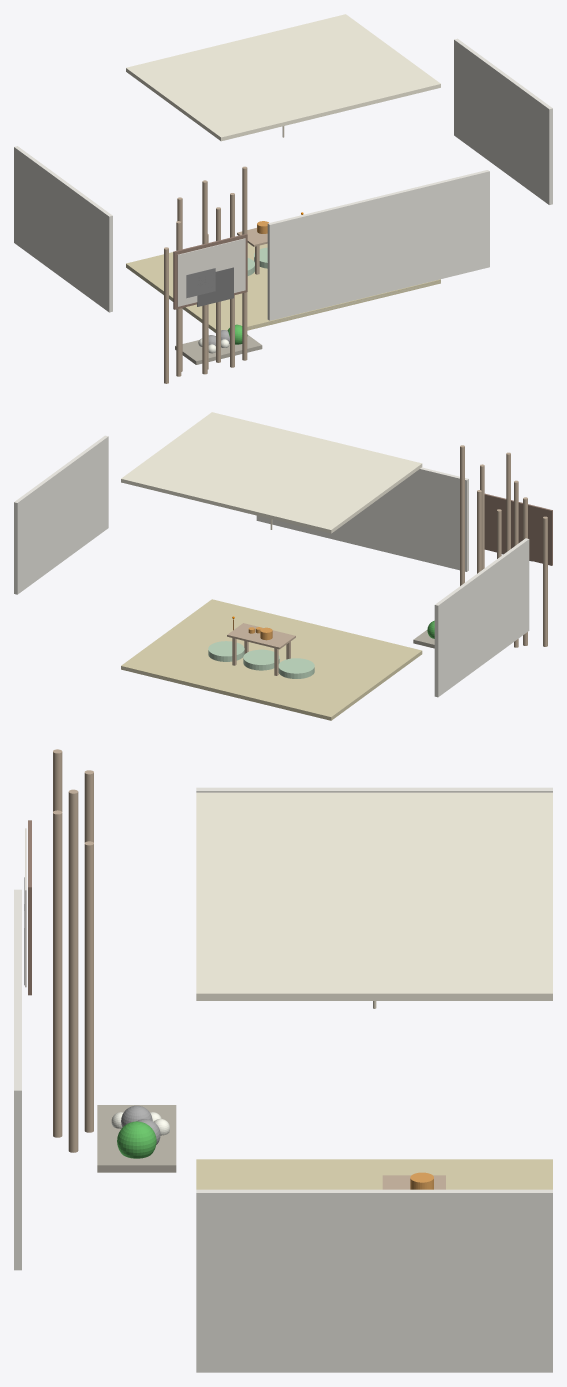
The model's file is baked_milo_room.glb.
3 renders of one model, top to bottom at view 1: azimuth 30°, elevation 25°; view 2: azimuth 150°, elevation 25°; view 3: azimuth 270°, elevation 25°, orthographic. The views are drawn at different scales.
Parts seen in each view (by area): view 1: BackWall, Ceiling, LeftWall, RightWall, Floor, PaintingCanvas, PaintingFrame, ZenBase, Mountain2, Bamboo_7, Bamboo_3, Tatami (+5 smaller); view 2: Ceiling, Floor, LeftWall, RightWall, BackWall, PaintingFrame, TeaTable, Bamboo_7, Cushion_-100, Bamboo_0, Cushion_0, Cushion_100 (+2 smaller); view 3: Ceiling, RightWall, Floor, Bamboo_7, ZenBase, Bamboo_6, BackWall, Bamboo_5, LeftWall, Bonsai.
Boxes of the visible parts, x1,y1,x2,y2 form: BackWall: (267, 170, 489, 320); Ceiling: (126, 14, 440, 141); LeftWall: (14, 146, 112, 312); RightWall: (454, 38, 552, 204); Floor: (126, 243, 440, 332); PaintingCanvas: (177, 238, 245, 306); PaintingFrame: (173, 233, 247, 309); ZenBase: (175, 334, 262, 364); Mountain2: (197, 267, 233, 306); Bamboo_7: (242, 166, 247, 360); Bamboo_3: (202, 180, 207, 374); Tatami: (126, 264, 440, 331); Ceiling: (121, 412, 422, 533); Floor: (121, 599, 422, 720); LeftWall: (434, 538, 529, 697); RightWall: (14, 435, 108, 594); BackWall: (256, 467, 468, 571); PaintingFrame: (484, 493, 552, 565); TeaTable: (227, 623, 295, 649); Bamboo_7: (460, 445, 464, 585); Cushion_-100: (278, 658, 314, 678); Bamboo_0: (543, 516, 547, 646); Cushion_0: (243, 649, 279, 670); Cushion_100: (208, 641, 244, 661); Ceiling: (196, 792, 552, 1000); RightWall: (196, 1189, 552, 1372); Floor: (196, 1159, 552, 1189); Bamboo_7: (68, 789, 78, 1152); ZenBase: (97, 1105, 176, 1172); Bamboo_6: (53, 810, 62, 1137); BackWall: (14, 889, 21, 1270); Bamboo_5: (84, 841, 93, 1132); LeftWall: (196, 787, 552, 792); Bonsai: (117, 1121, 156, 1158).
Bounding box in the file's own units: 1210 × 520 × 680.
